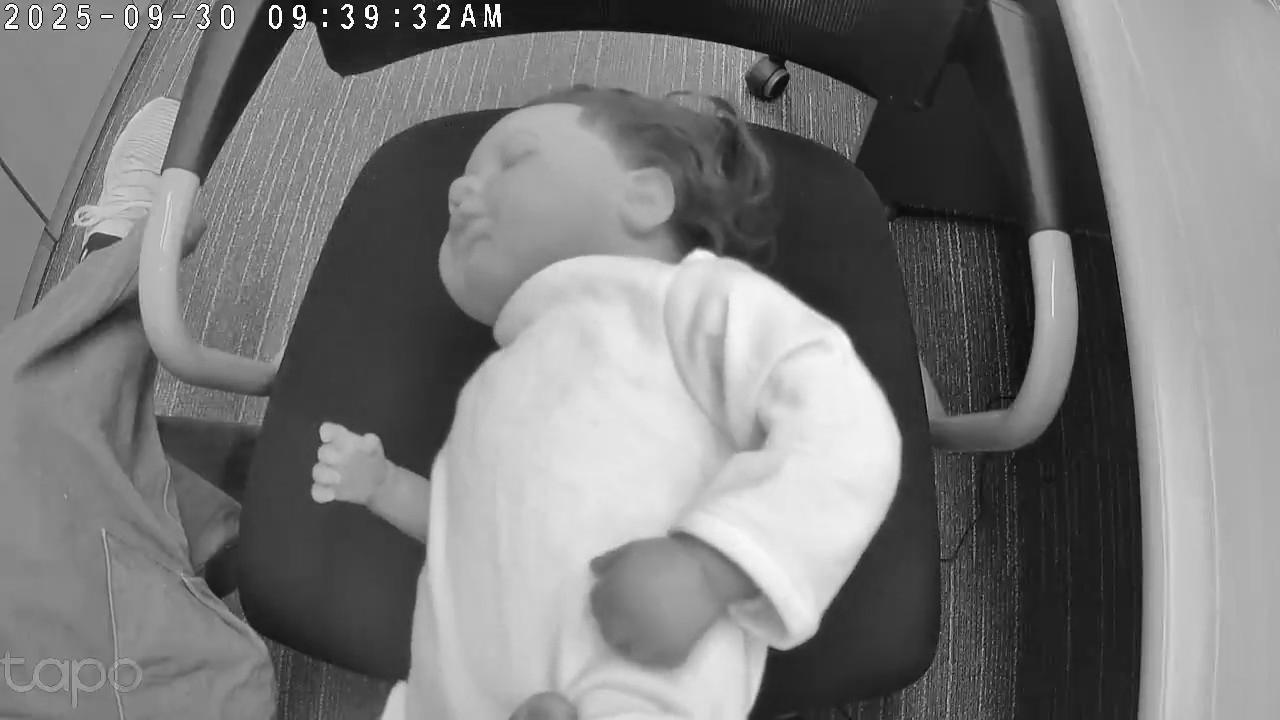hand: (585, 538, 731, 670), (312, 420, 389, 506)
